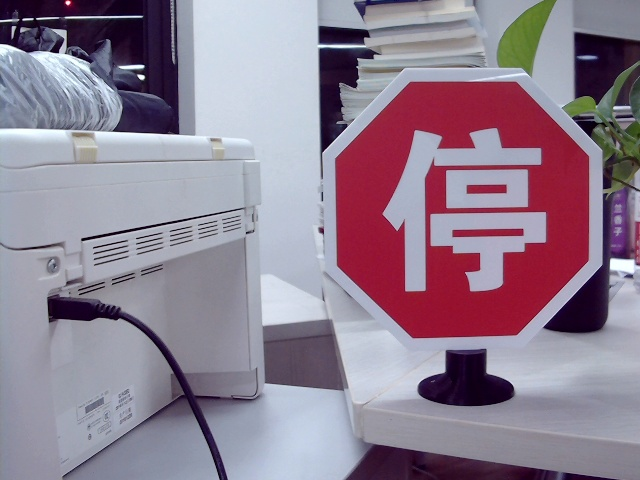stop: (385, 122, 552, 291)
